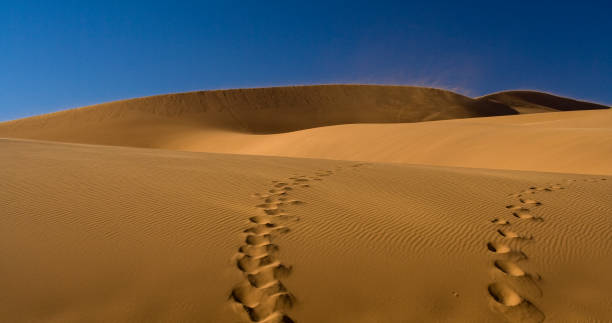human_foot_print: (230, 167, 341, 322), (486, 179, 575, 321), (487, 218, 544, 321)
